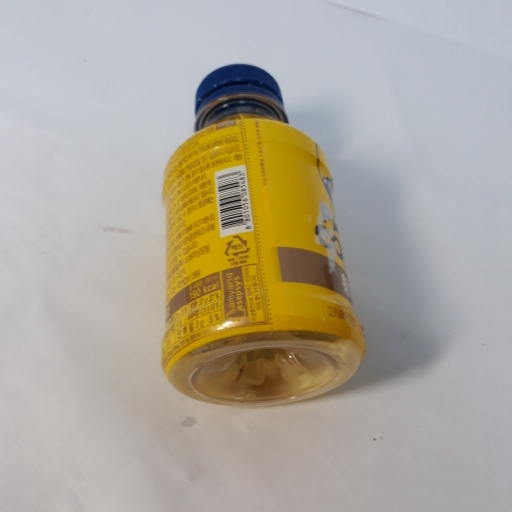Plastic_0: (153, 59, 370, 410)
